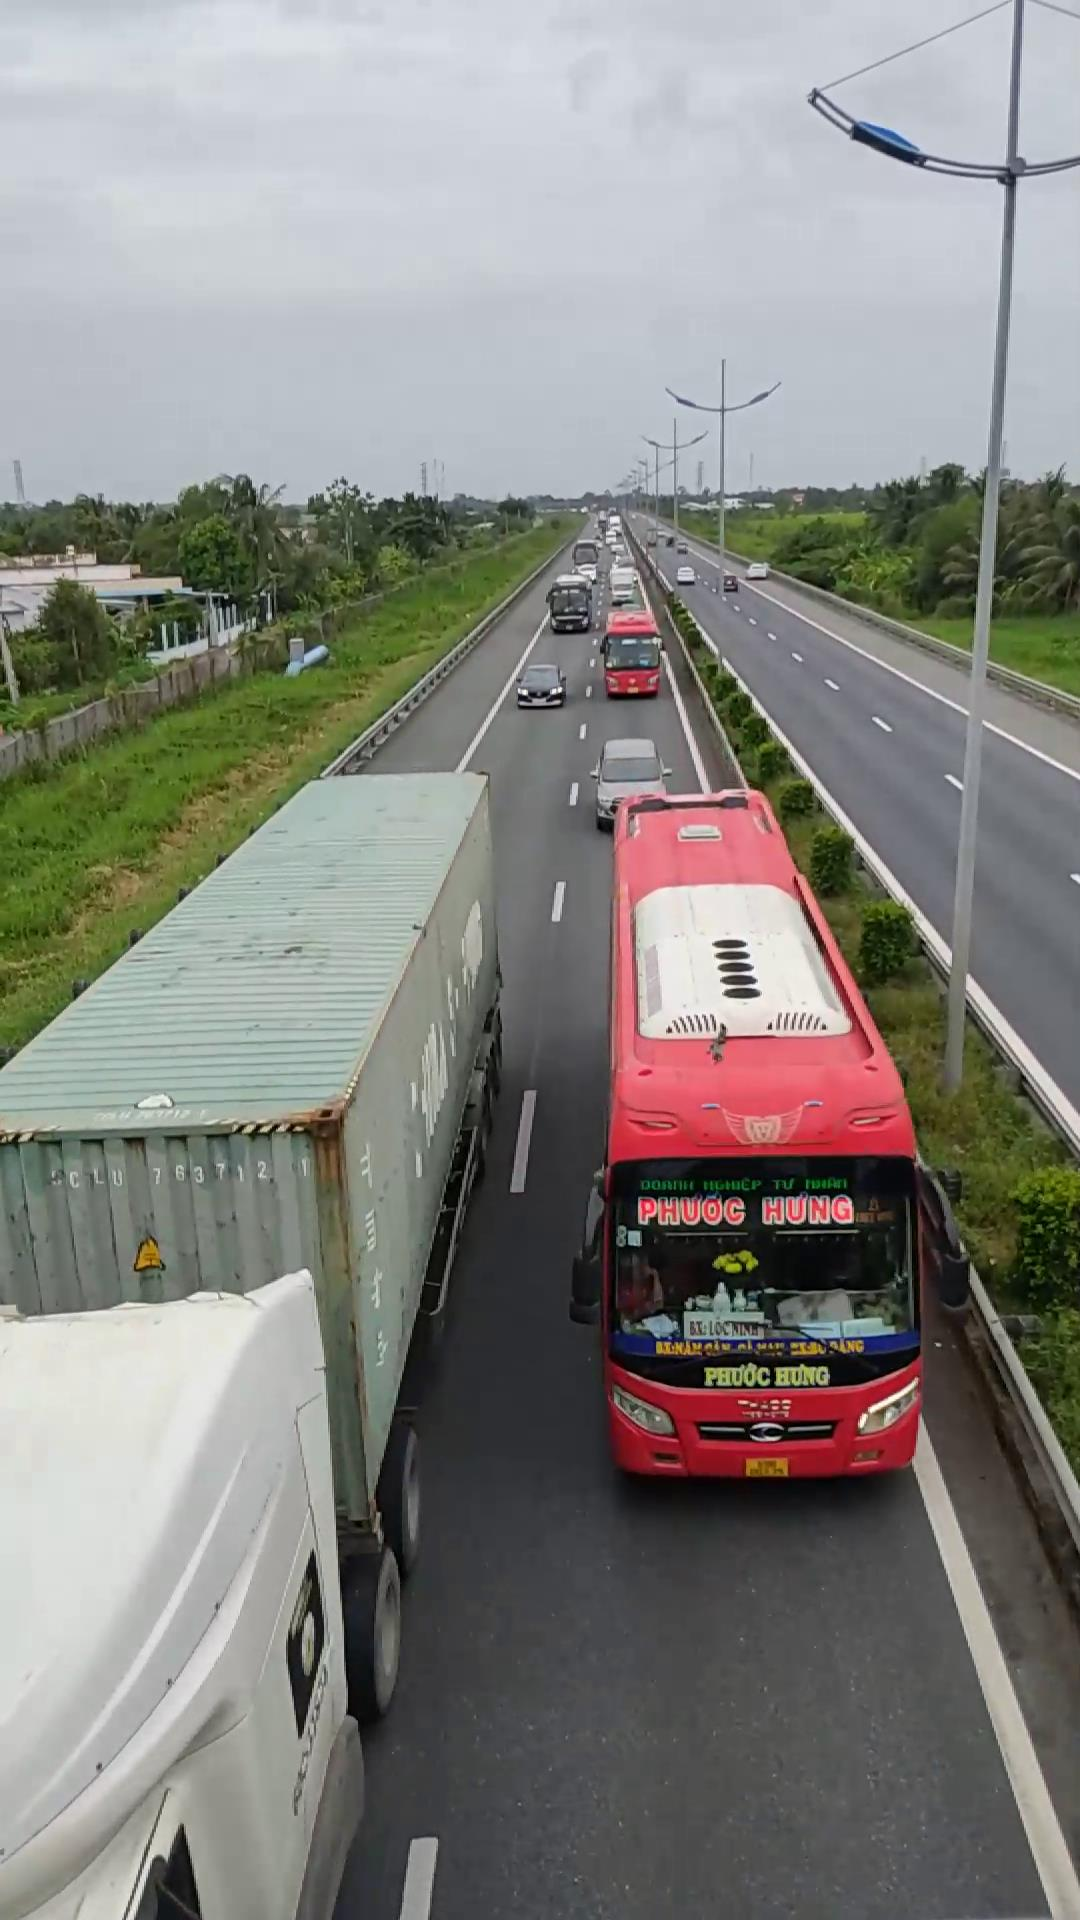bus: (590, 779, 933, 1483)
container: (0, 763, 504, 1911)
